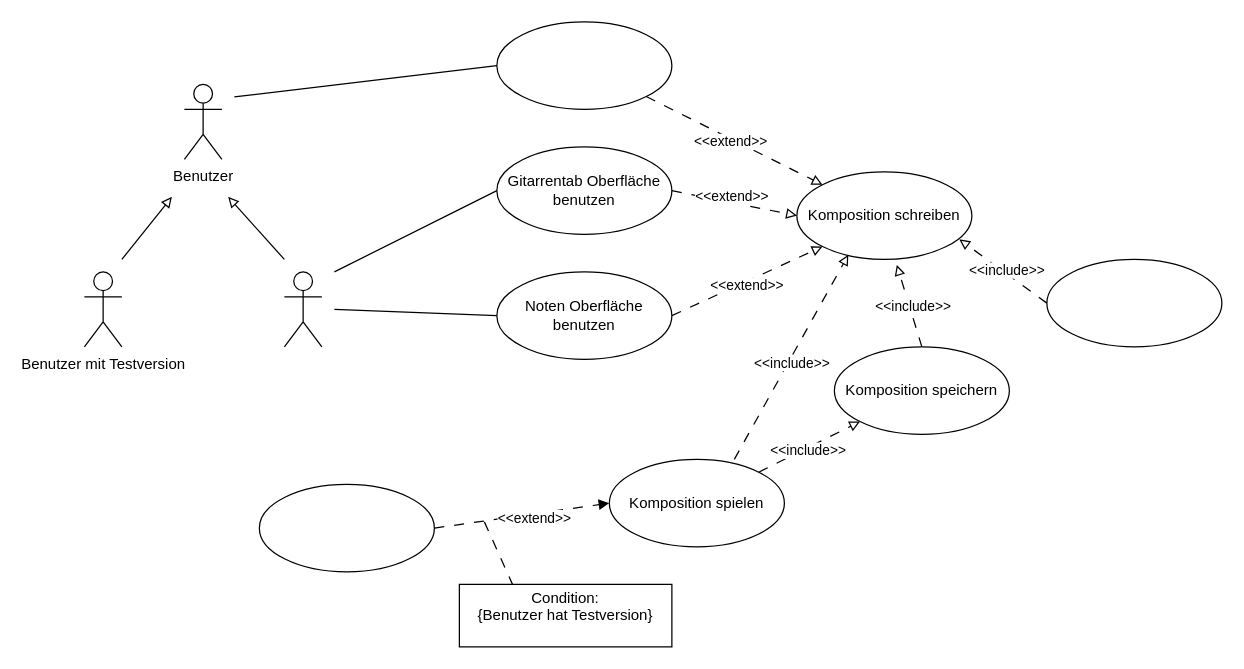
This 1244x669 diagram has some shape labels left out. Here are the shapes that lost their labels. From the top down, the centre of each, then its label:
At [584,65]: "Akkord Oberfläche benutzen".
At [302,309]: "Benutzer mit Premiumversion".
At [1134,302]: "Komposition laden".
At [346,527]: "Werbung schauen".
